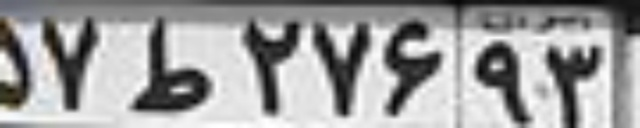2: (238, 21, 299, 114)
3: (543, 42, 602, 127)
5: (0, 17, 31, 108)
6: (380, 23, 441, 116)
7: (308, 21, 378, 116), (37, 15, 101, 111)
9: (473, 43, 533, 124)
taa: (128, 15, 214, 111)
